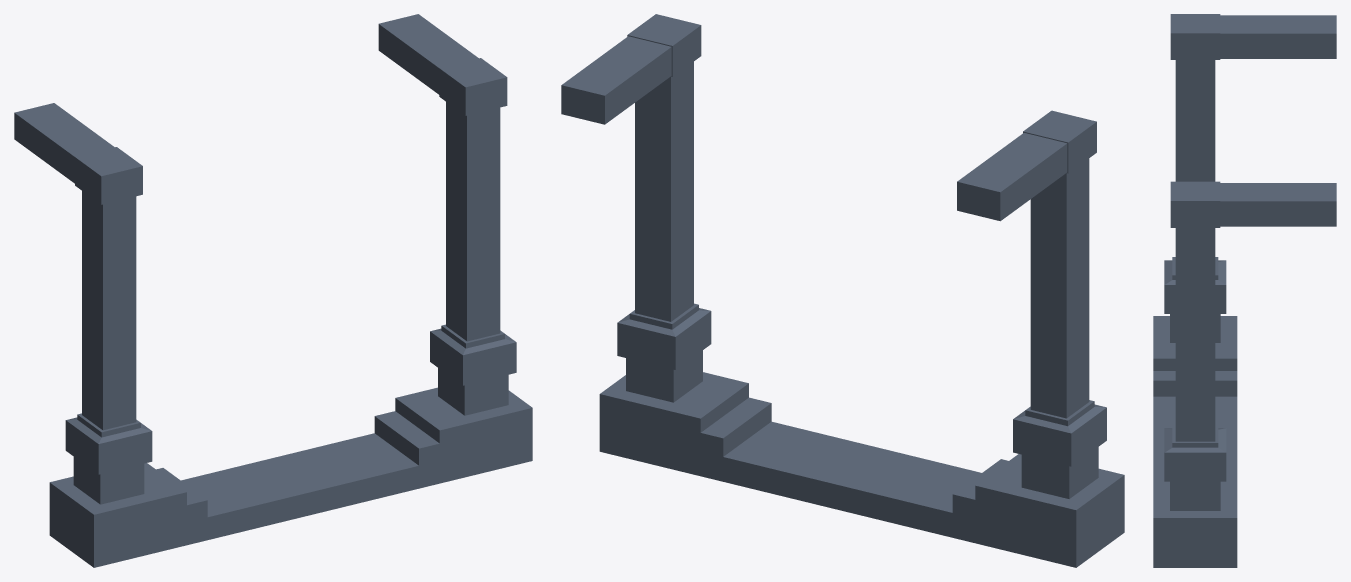
Rendered from SoporteEntradaBunker.fbx.
3 renders of one model, left to right at view 1: azimuth 30°, elevation 25°; view 2: azimuth 150°, elevation 25°; view 3: azimuth 270°, elevation 25°, orthographic. The views are drawn at different scales.
Parts seen in each view (by area): view 1: ColumnasPortonInicio; view 2: ColumnasPortonInicio; view 3: ColumnasPortonInicio.
Boxes of the visible parts, bbox=[...] form: ColumnasPortonInicio: bbox=[14, 14, 532, 567]; ColumnasPortonInicio: bbox=[561, 14, 1124, 567]; ColumnasPortonInicio: bbox=[1153, 14, 1336, 567].
Size of the model in its own units: 1139 by 945 by 436.
